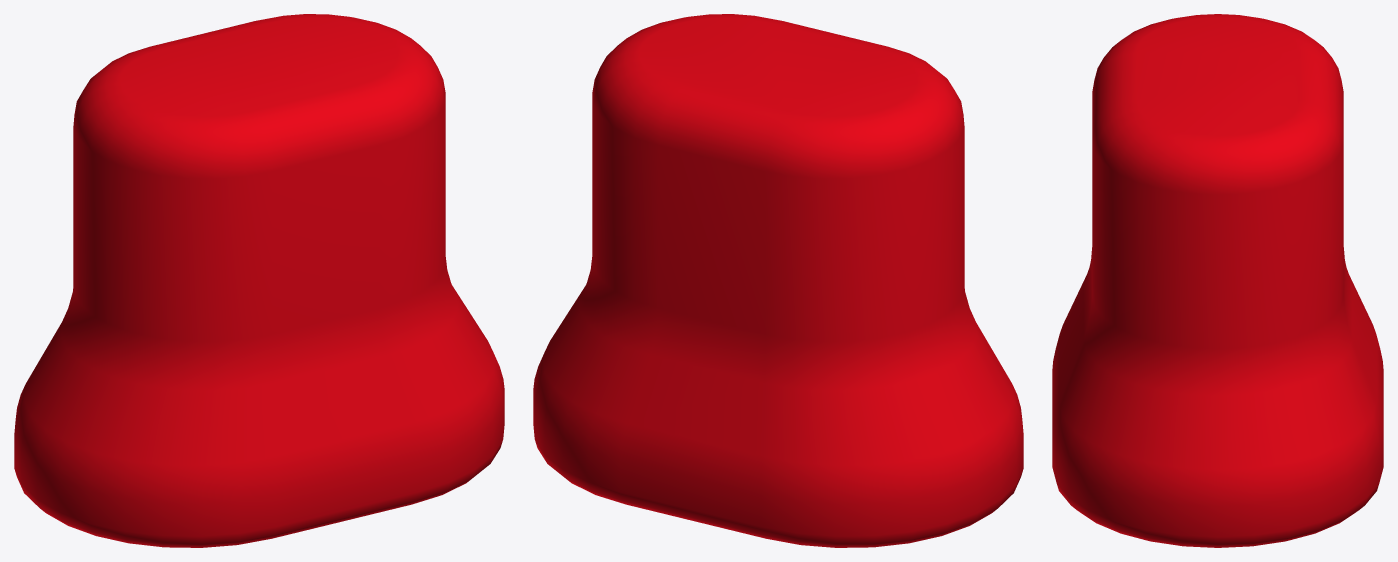
Rendered from rubber 2.fbx.
3 renders of one model, left to right at view 1: azimuth 30°, elevation 25°; view 2: azimuth 150°, elevation 25°; view 3: azimuth 270°, elevation 25°, orthographic. The views are drawn at different scales.
Visible parts, largest first — view 1: Cube; view 2: Cube; view 3: Cube.
Part boxes in pixels (x1,y1,x2,y2): Cube: (14,14,504,547); Cube: (533,14,1023,547); Cube: (1052,14,1383,547).
Bounding box in the file's own units: 142 × 121 × 97.17.
Materials: 1 (1 with a texture image).
